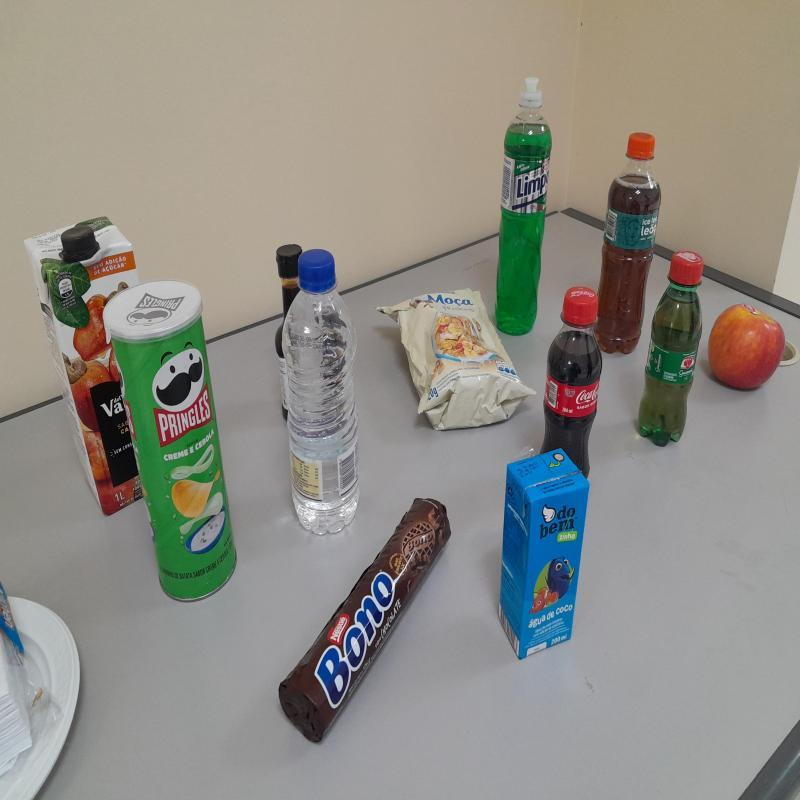Apple: (712, 306, 790, 393)
Cleaner: (496, 78, 553, 336)
CoconutWater: (497, 447, 585, 658)
Coke: (540, 288, 602, 473)
Cookies: (281, 497, 458, 750)
CornFlakes: (383, 288, 532, 437)
EnglishSauce: (275, 243, 299, 348)
Guarana: (639, 253, 704, 442)
IceTea: (597, 137, 664, 355)
Pringles: (98, 272, 242, 602)
Water: (278, 246, 361, 532)
